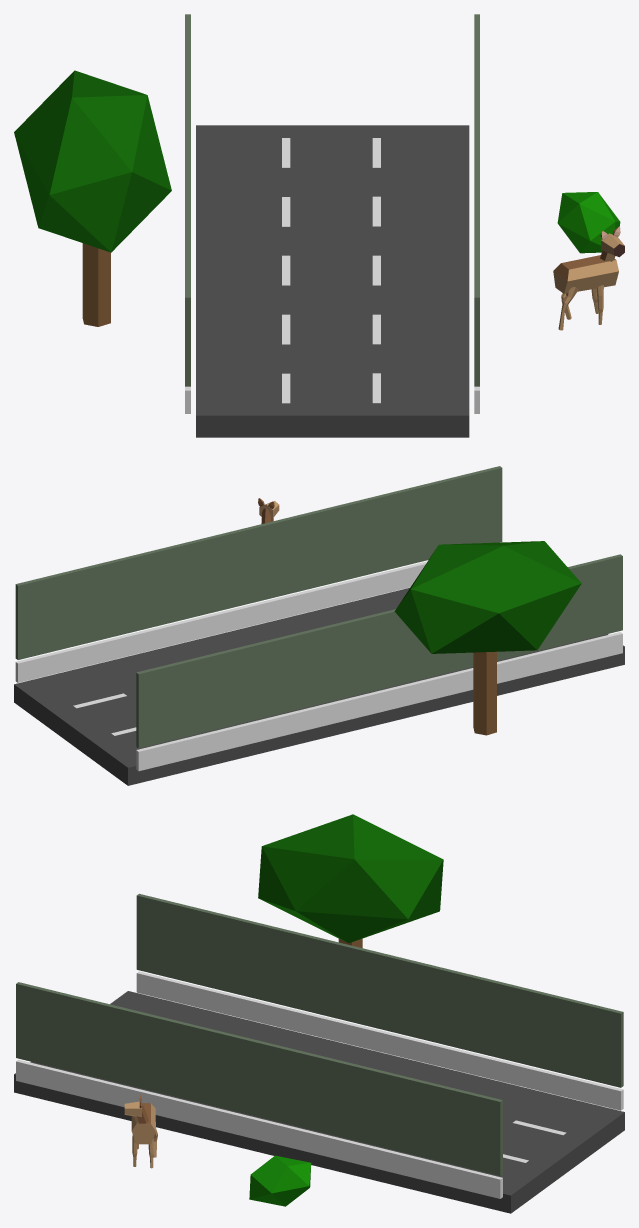
File: highway_03_6.fbx
The picture shows the model from 3 angles, top to bottom: view 1: azimuth 30°, elevation 25°; view 2: azimuth 150°, elevation 25°; view 3: azimuth 270°, elevation 25°; orthographic projection. The views are drawn at different scales.
Visible parts, largest first — view 1: highway03.005, tree2, soundAndSightSafer, bushSmall3, Cylinder.003, laneMarkingsRight.004, laneMarkingsLeft.005; view 2: soundAndSightSafer, highway03.005, leitPlanks.005, tree2; view 3: soundAndSightSafer, highway03.005, leitPlanks.005, tree2, bushSmall3, Cylinder.003.
Part boxes in pixels (x1=…): highway03.005: x1=196, y1=125, x2=469, y2=437; tree2: x1=14, y1=70, x2=171, y2=326; soundAndSightSafer: x1=185, y1=14, x2=479, y2=386; bushSmall3: x1=557, y1=192, x2=620, y2=253; Cylinder.003: x1=553, y1=255, x2=618, y2=293; laneMarkingsRight.004: x1=372, y1=138, x2=380, y2=403; laneMarkingsLeft.005: x1=282, y1=138, x2=290, y2=403; soundAndSightSafer: x1=15, y1=466, x2=622, y2=748; highway03.005: x1=14, y1=588, x2=624, y2=785; leitPlanks.005: x1=15, y1=561, x2=622, y2=771; tree2: x1=394, y1=541, x2=581, y2=735; soundAndSightSafer: x1=16, y1=893, x2=623, y2=1175; highway03.005: x1=14, y1=991, x2=624, y2=1213; leitPlanks.005: x1=16, y1=971, x2=623, y2=1198; tree2: x1=258, y1=814, x2=443, y2=947; bushSmall3: x1=249, y1=1155, x2=311, y2=1206; Cylinder.003: x1=131, y1=1103, x2=155, y2=1144.
Size of the model in its own units: 92.34 by 37.73 by 105.
